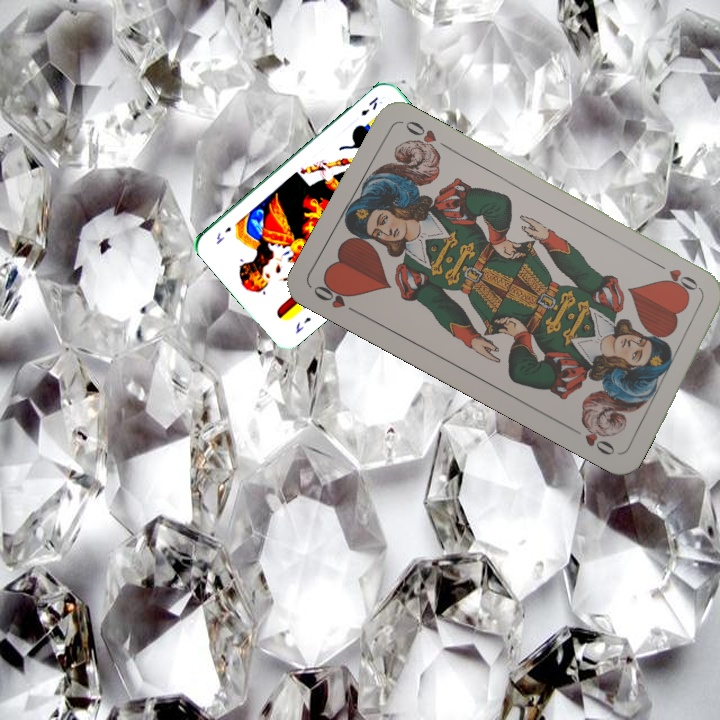EK: (357, 93, 381, 118), (291, 313, 314, 336)
HO: (309, 277, 363, 317), (652, 258, 705, 296)
